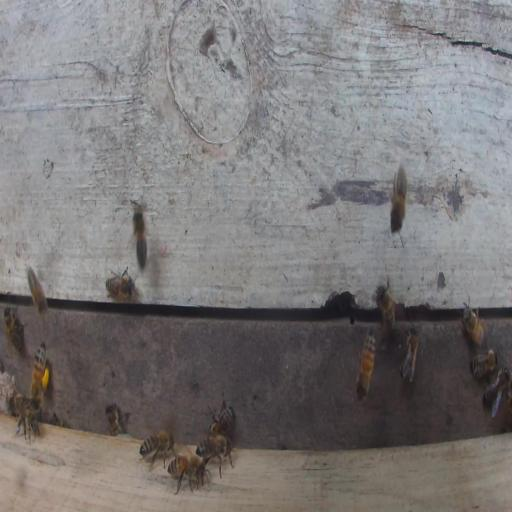bee: (166, 453, 210, 494), (197, 434, 235, 476), (356, 332, 376, 403), (138, 429, 174, 466), (482, 367, 509, 416), (375, 278, 396, 341), (31, 342, 49, 410), (462, 297, 486, 347), (399, 325, 419, 383), (390, 163, 407, 231), (105, 265, 136, 302), (132, 200, 148, 270), (209, 393, 234, 437), (27, 268, 49, 317), (3, 305, 25, 352), (470, 348, 499, 377), (105, 402, 127, 437), (22, 403, 39, 437), (10, 393, 26, 415), (13, 411, 17, 415)
